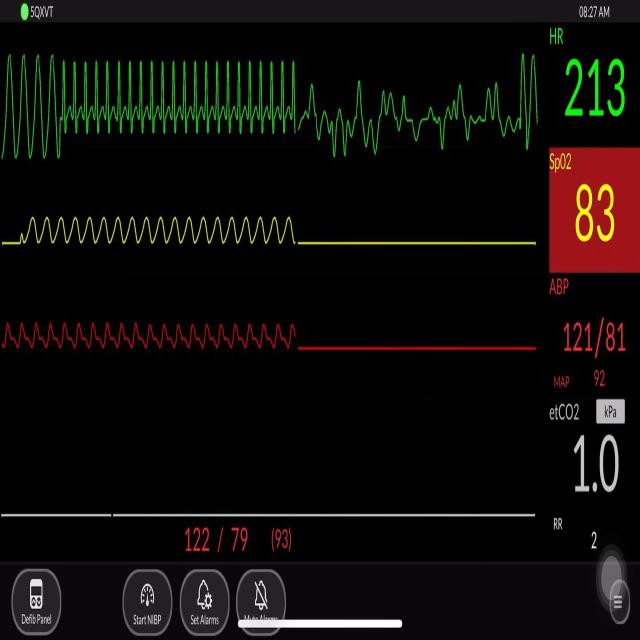danger: (62, 51, 298, 140), (3, 45, 62, 168)
